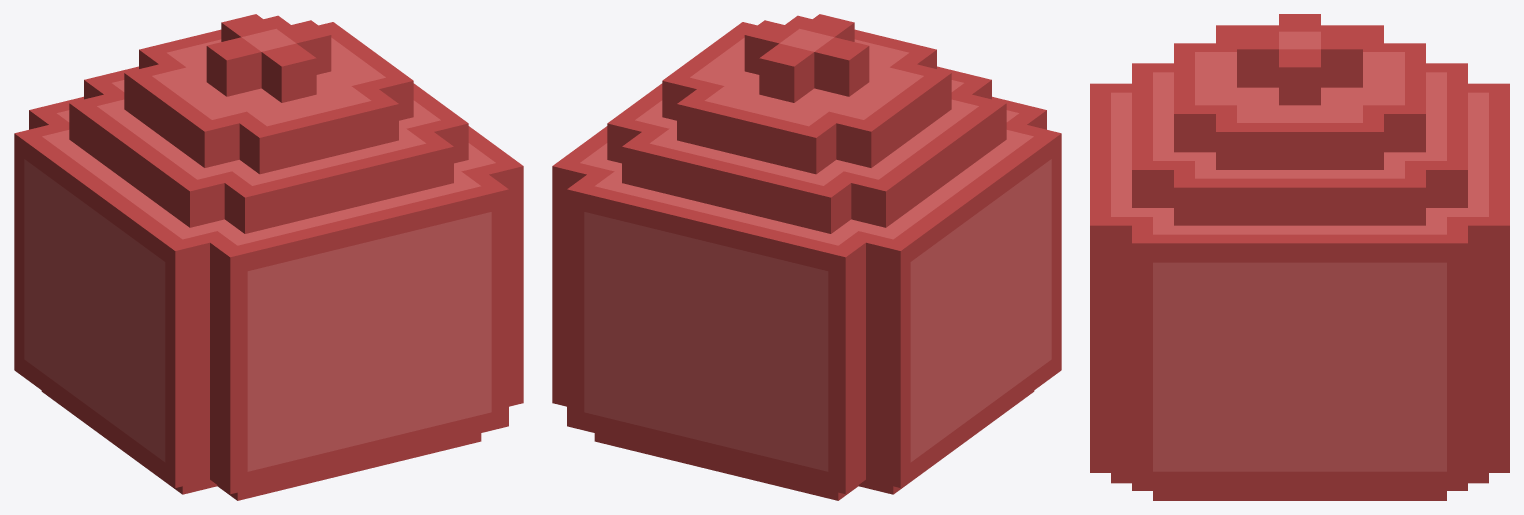
The model's file is bush.vox.obj.
The picture shows the model from 3 angles, left to right: view 1: azimuth 30°, elevation 25°; view 2: azimuth 150°, elevation 25°; view 3: azimuth 270°, elevation 25°; orthographic projection. The views are drawn at different scales.
Size of the model in its own units: 2 by 2 by 2.
Materials: 1 (1 with a texture image).
